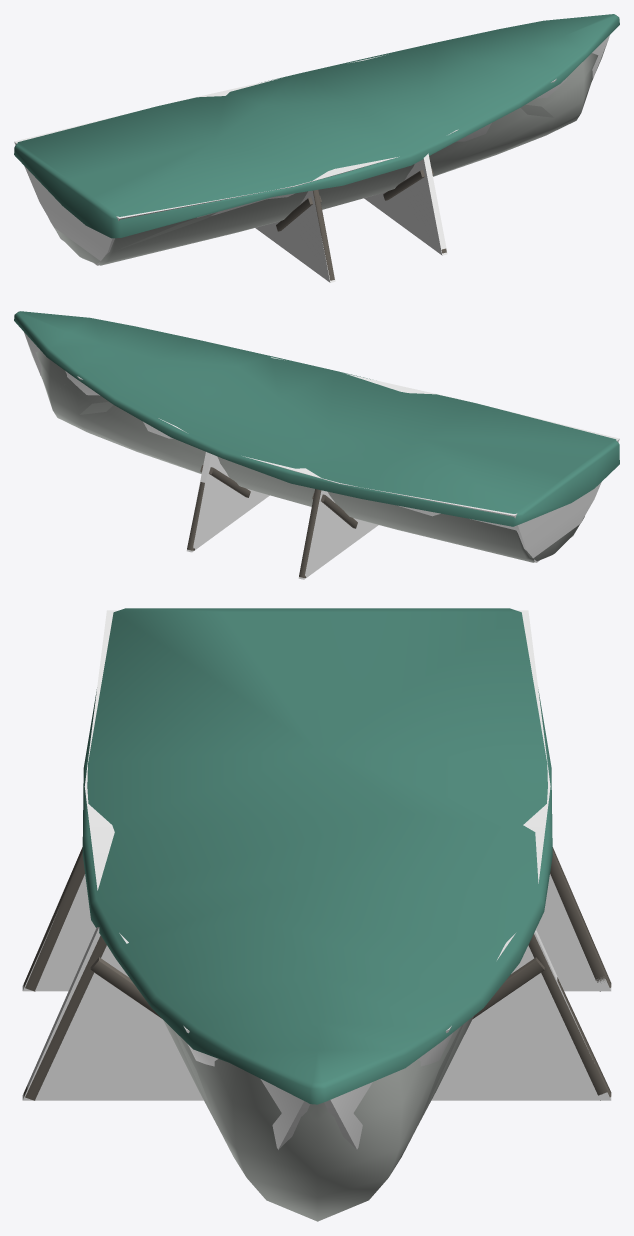
File: eca_fv_shore_boat_covered.DAE
3 views of the same model, one above another, from view 1: azimuth 30°, elevation 25°; view 2: azimuth 150°, elevation 25°; view 3: azimuth 270°, elevation 25° (orthographic). The views are drawn at different scales.
Parts seen in each view (by area): view 1: eca_fv_shore_boat_covered120, Colmesh-1, eca_fv_shore_boat_covered40; view 2: eca_fv_shore_boat_covered120, Colmesh-1; view 3: eca_fv_shore_boat_covered120, Colmesh-1.
Part boxes in pixels (x1,y1,x2,y2): eca_fv_shore_boat_covered120: (14,14,619,280); Colmesh-1: (14,35,609,282); eca_fv_shore_boat_covered40: (55,104,554,263); eca_fv_shore_boat_covered120: (14,311,619,577); Colmesh-1: (24,332,619,579); eca_fv_shore_boat_covered120: (24,608,611,1221); Colmesh-1: (22,610,611,1150).
Size of the model in its own units: 6.15 by 2.82 by 1.34.
